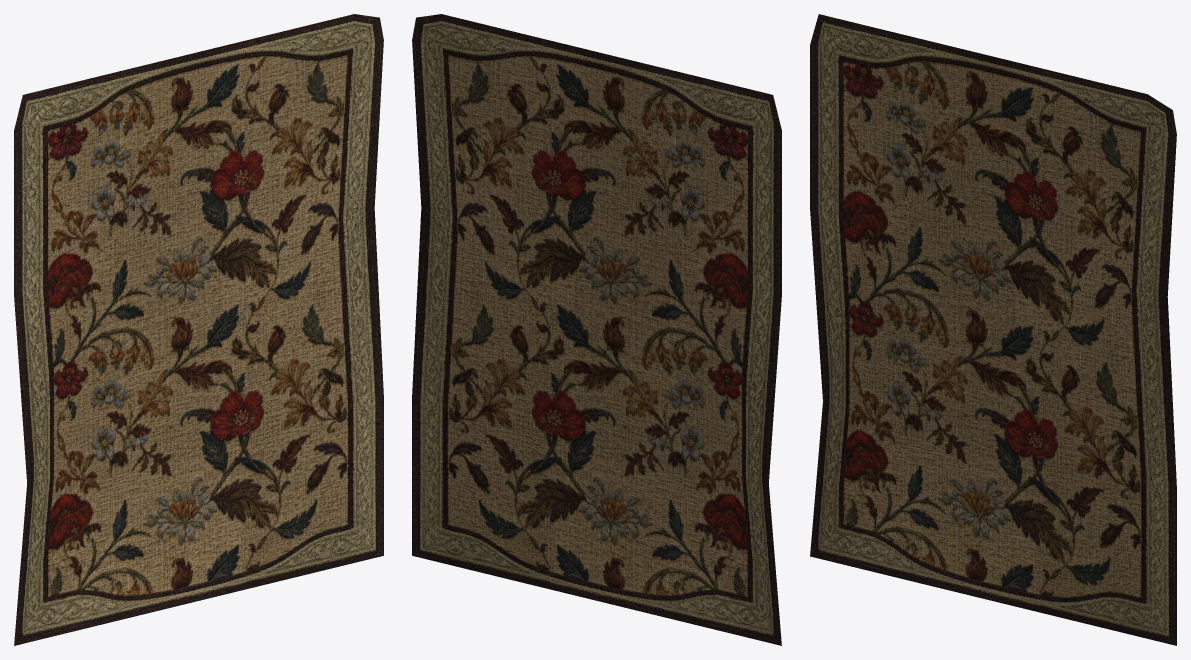
Rendered from mm9_deco_tapestry_olive.glb.
3 views of the same model, side by side, from view 1: azimuth 30°, elevation 25°; view 2: azimuth 150°, elevation 25°; view 3: azimuth 330°, elevation 25° (orthographic).
Parts seen in each view (by area): view 1: Tapestry_olive; view 2: Tapestry_olive; view 3: Tapestry_olive.
Part boxes in pixels (x1,y1,x2,y2): Tapestry_olive: (14,14,383,645); Tapestry_olive: (412,14,781,645); Tapestry_olive: (810,14,1176,645).
Size of the model in its own units: 1.63 by 2.31 by 2.59e-07.
1 material, 1 textured.
